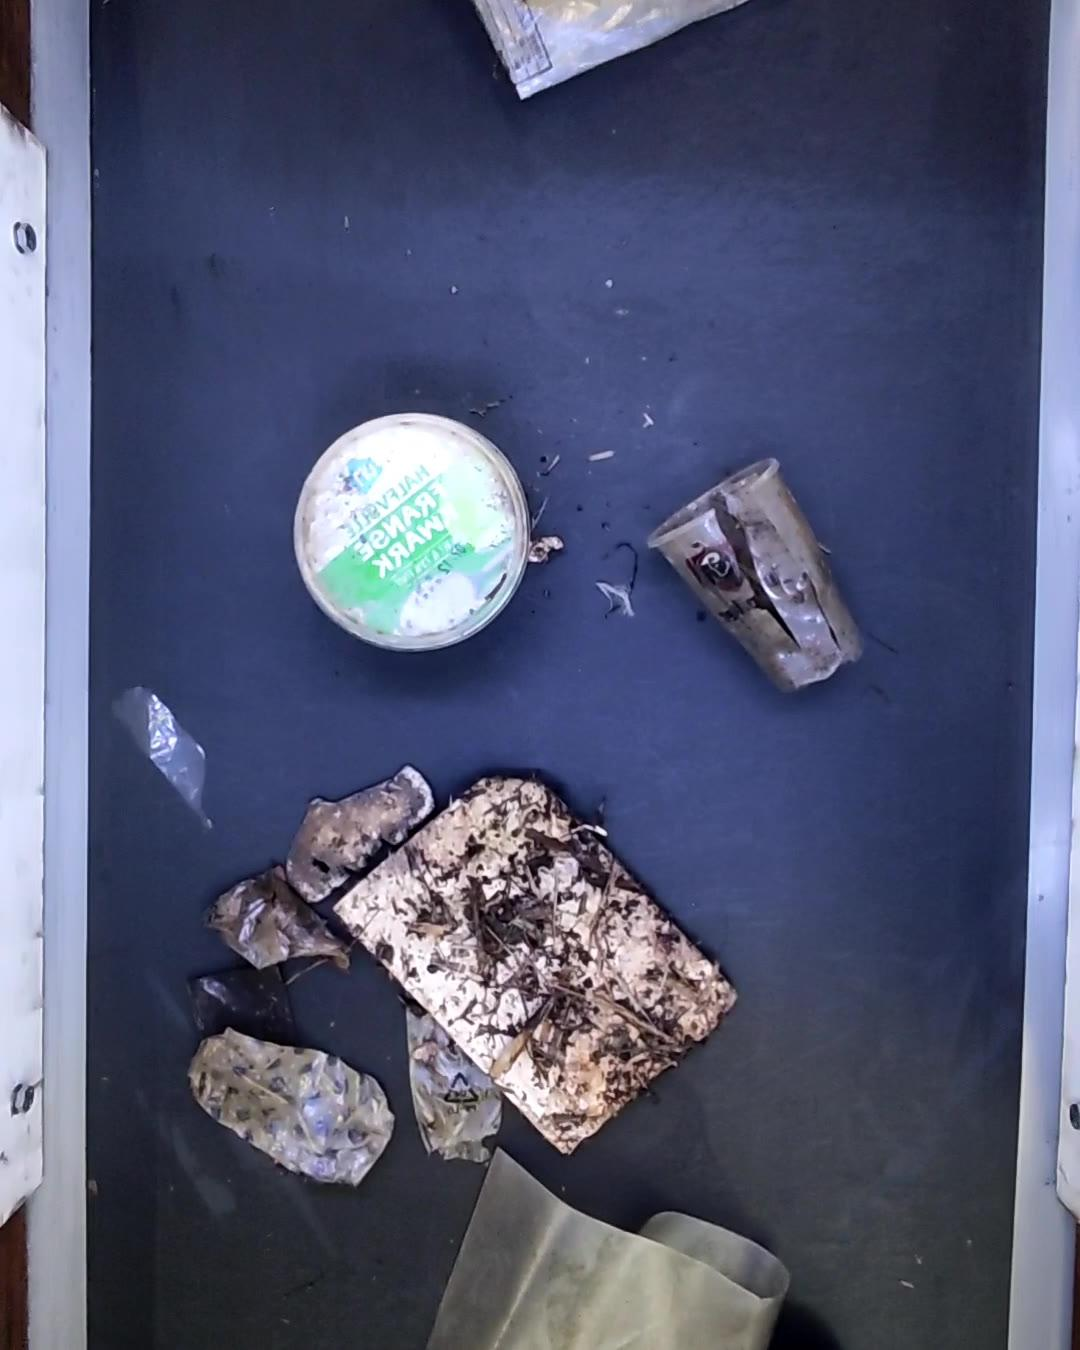Plastic folies of stukken daarvan 2.5- 50 cm: (426, 1148, 796, 1350), (469, 0, 750, 101), (407, 995, 504, 1165), (112, 683, 212, 842), (202, 867, 349, 971)
Voedselverpakkingen: (292, 407, 531, 647)
